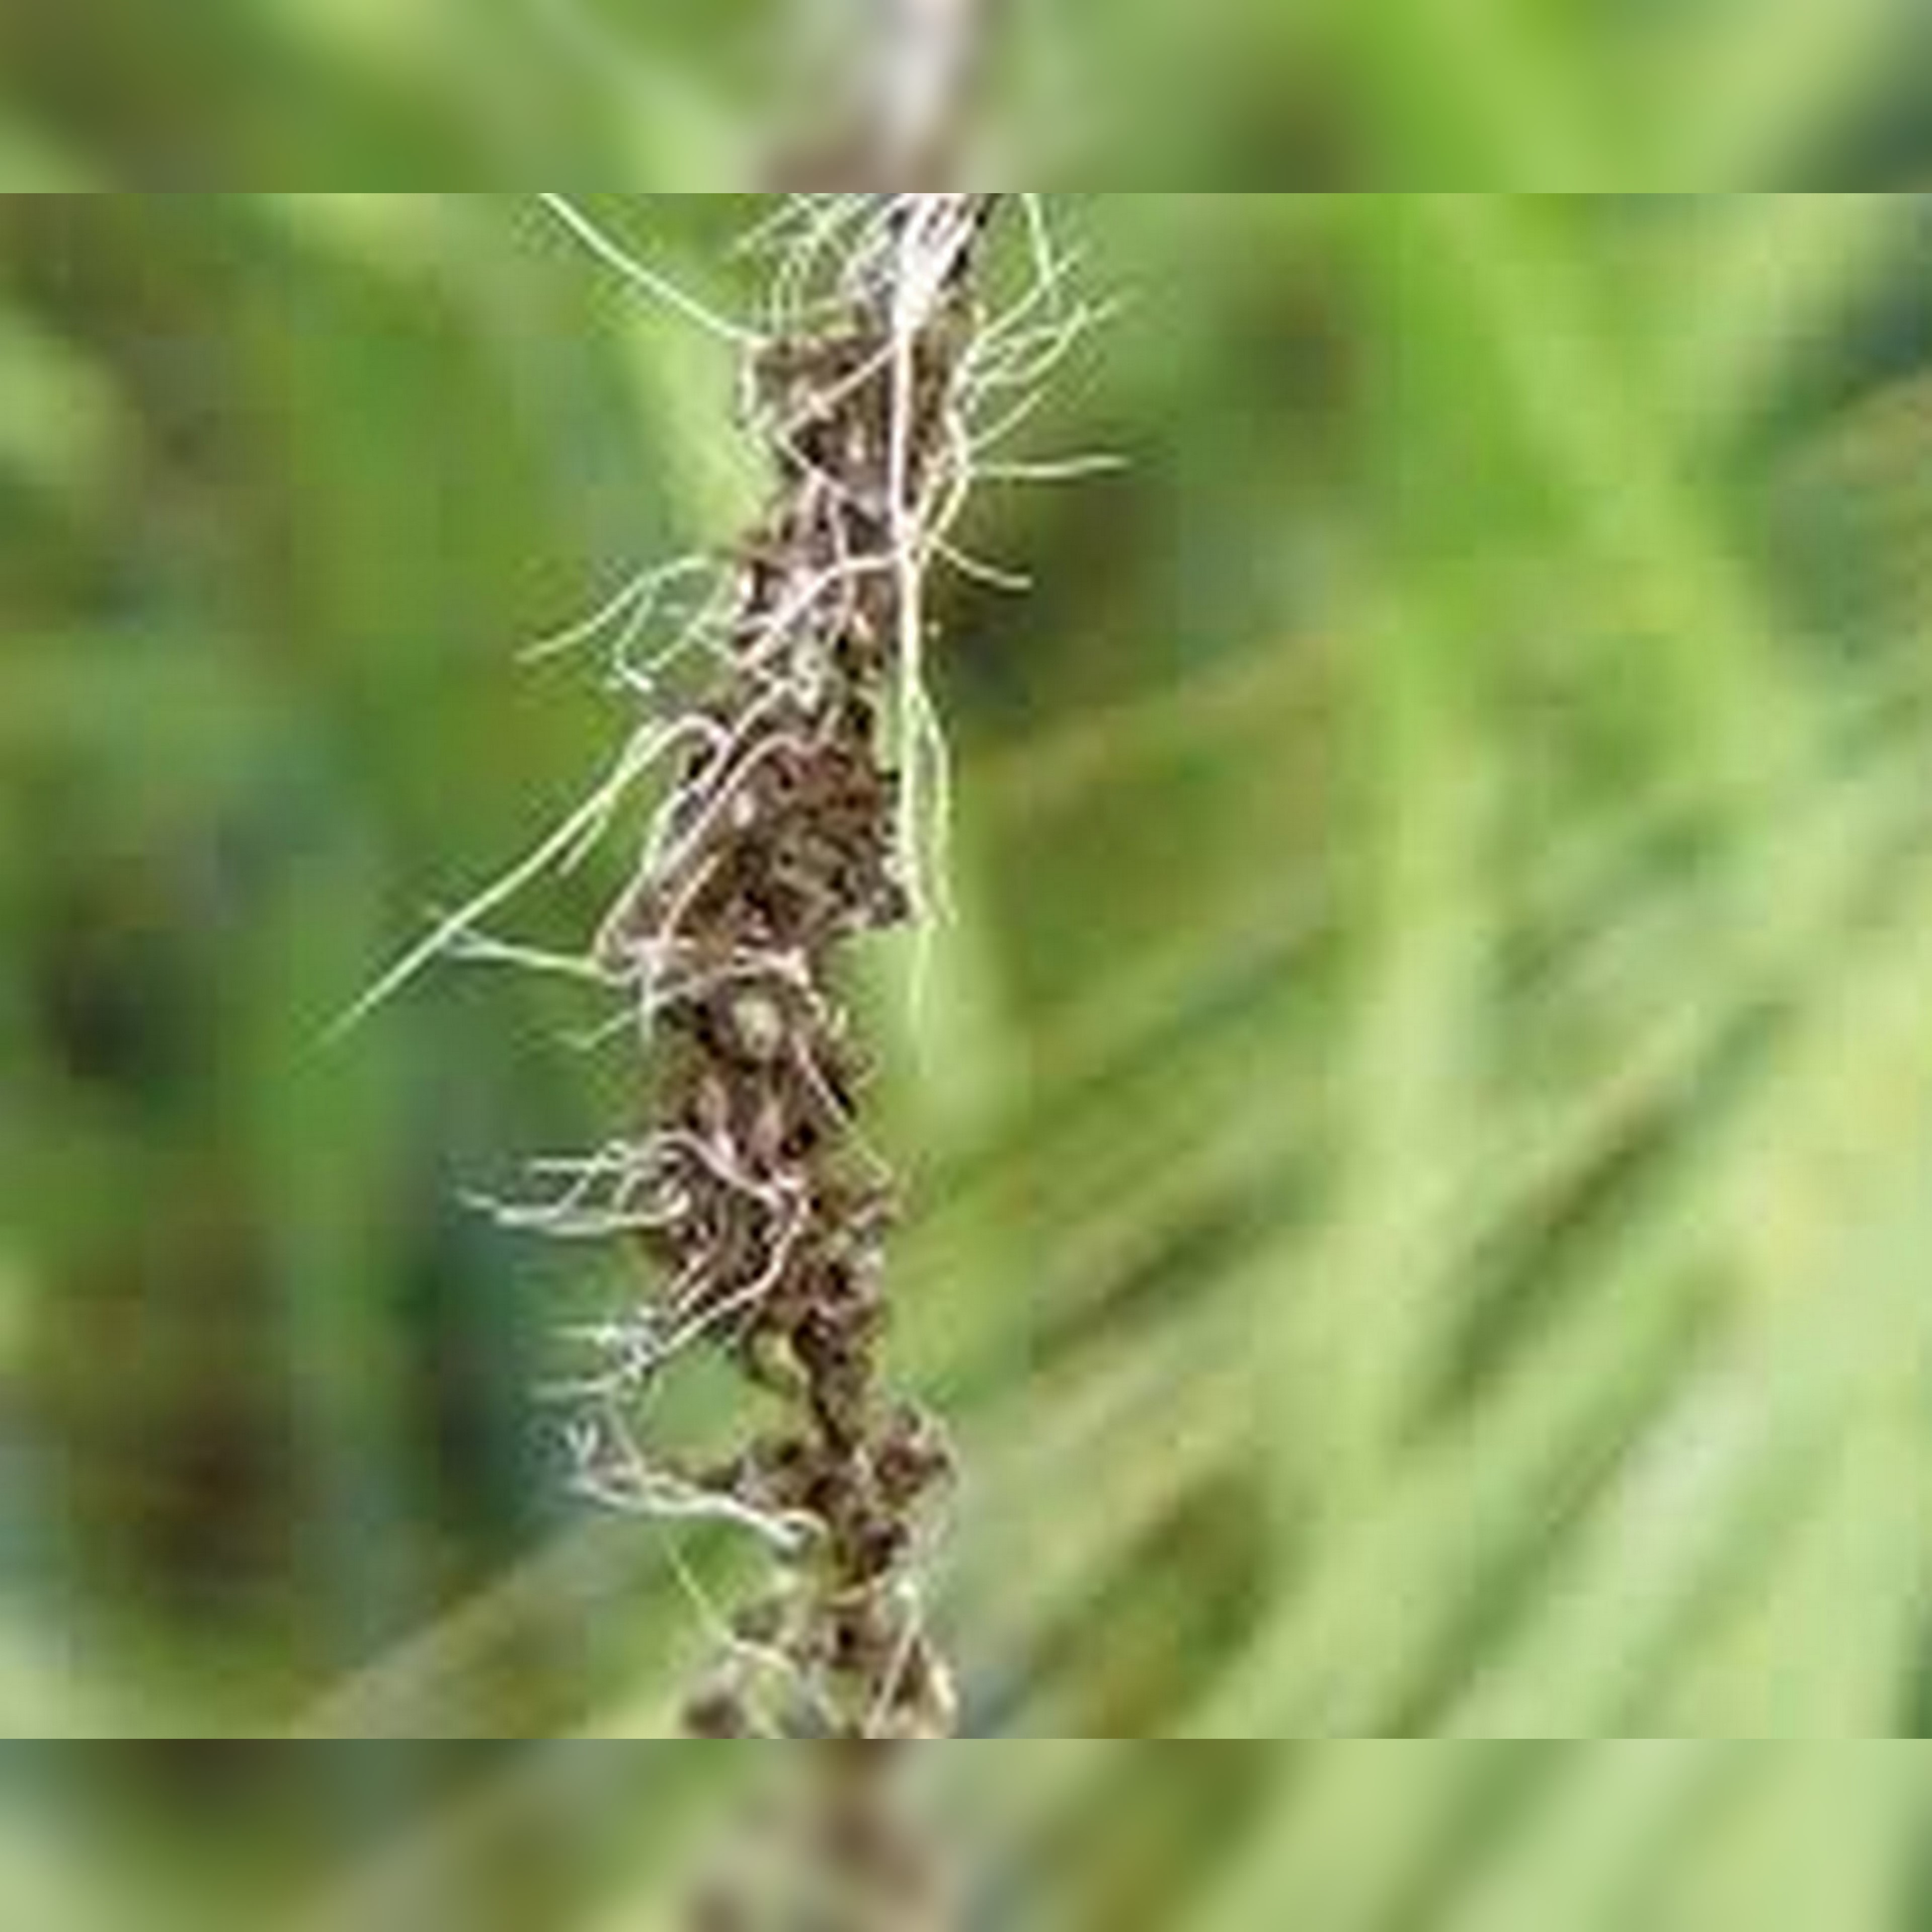Wheat Loose Smut: (487, 218, 1099, 1690)
